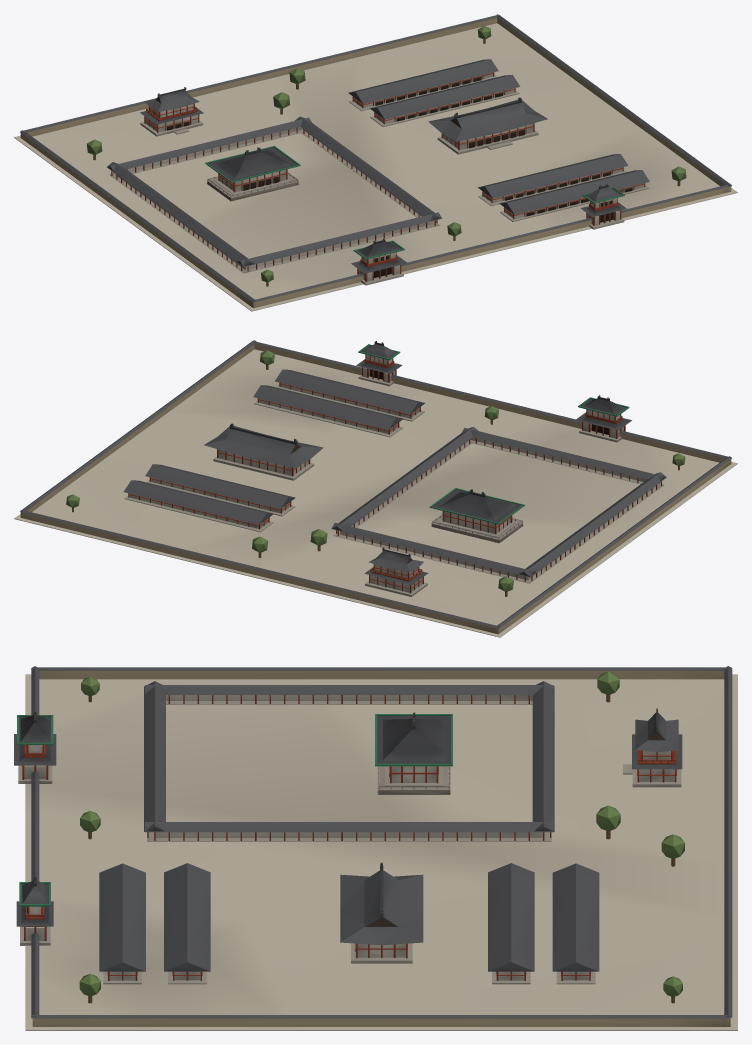
The model's file is guozijian.glb.
3 views of the same model, one above another, from view 1: azimuth 30°, elevation 25°; view 2: azimuth 150°, elevation 25°; view 3: azimuth 270°, elevation 25° (orthographic). The views are drawn at different scales.
Visible parts, largest first — view 1: p0_walls, p2_trees, p1_halls; view 2: p0_walls, p2_trees, p1_halls; view 3: p0_walls, p2_trees, p1_halls.
Boxes of the visible parts, <box> form: p0_walls: <box>14,14,737,311</box>; p2_trees: <box>87,26,686,286</box>; p1_halls: <box>140,72,649,285</box>; p0_walls: <box>14,340,737,637</box>; p2_trees: <box>66,341,685,596</box>; p1_halls: <box>124,354,625,596</box>; p0_walls: <box>25,666,737,1030</box>; p2_trees: <box>14,671,684,1003</box>; p1_halls: <box>18,745,681,984</box>.
Bounding box in the file's own units: 260 × 19.36 × 224.
